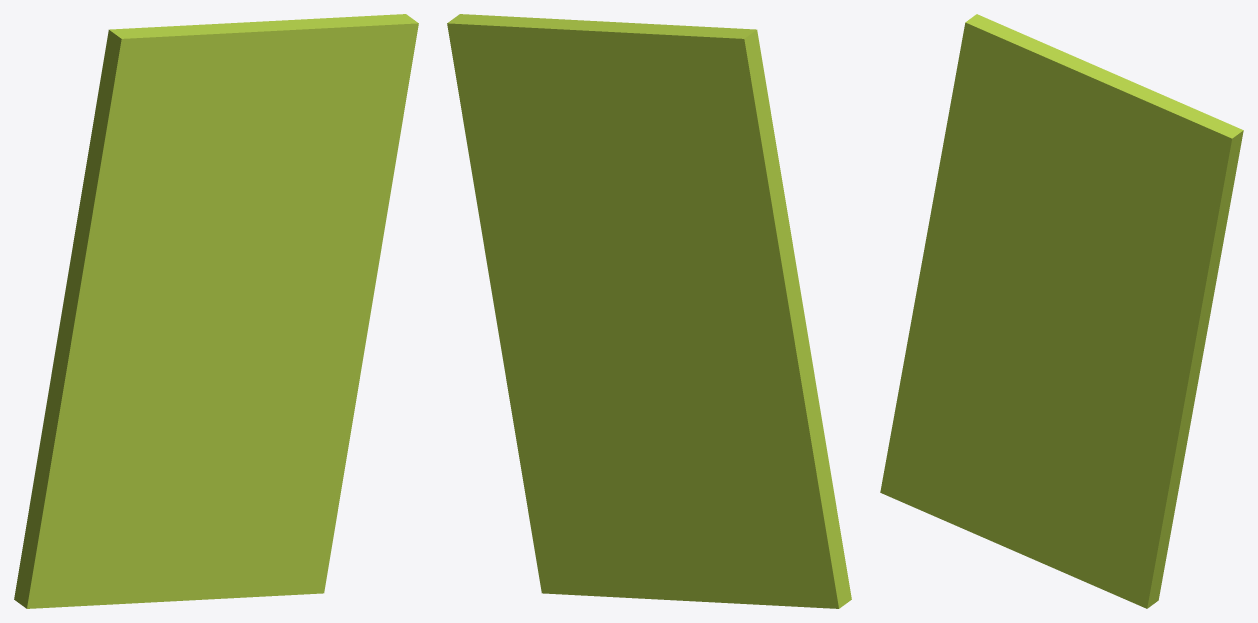
3 views of the same model, side by side, from view 1: azimuth 30°, elevation 25°; view 2: azimuth 150°, elevation 25°; view 3: azimuth 330°, elevation 25° (orthographic). The views are drawn at different scales.
Parts seen in each view (by area): view 1: osm-way27917482-F0; view 2: osm-way27917482-F0; view 3: osm-way27917482-F0.
Boxes of the visible parts, x1,y1,x2,y2 form: osm-way27917482-F0: (14,14,418,608); osm-way27917482-F0: (447,14,851,608); osm-way27917482-F0: (880,14,1243,608).
Size of the model in its own units: 2.64 by 3.89 by 0.15.
